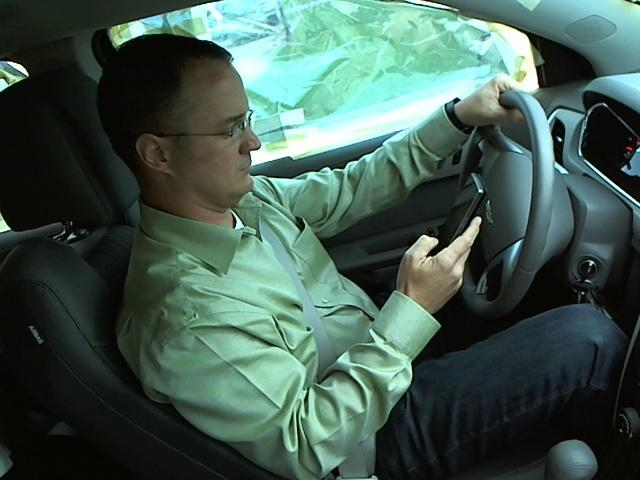PhoneUse: (431, 163, 483, 252)
